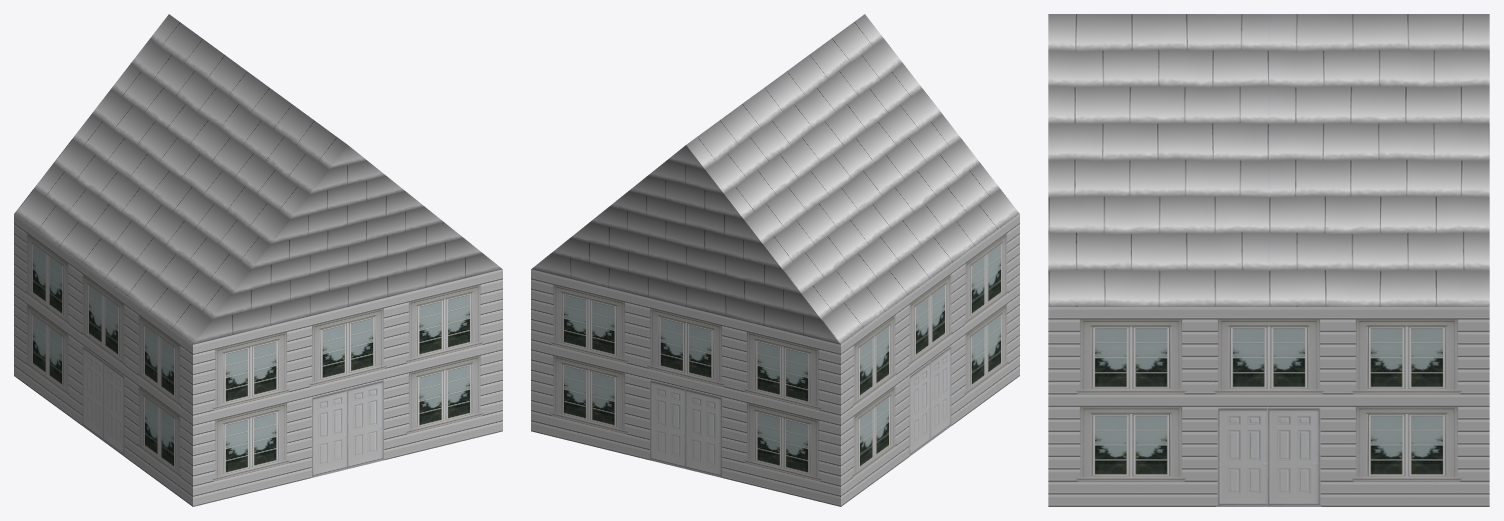
The model's file is suburban-house.fbx.
3 renders of one model, left to right at view 1: azimuth 30°, elevation 25°; view 2: azimuth 150°, elevation 25°; view 3: azimuth 270°, elevation 25°, orthographic. The views are drawn at different scales.
Visible parts, largest first — view 1: sloped.001, flat; view 2: sloped.001, flat.001; view 3: sloped.
Boxes of the visible parts, <box> form: sloped.001: <box>14,14,347,506</box>; flat: <box>193,145,502,506</box>; sloped.001: <box>686,14,1019,506</box>; flat.001: <box>531,145,840,506</box>; sloped: <box>1048,14,1489,506</box>.
Size of the model in its own units: 200 by 200 by 200.
Materials: 1 (1 with a texture image).
